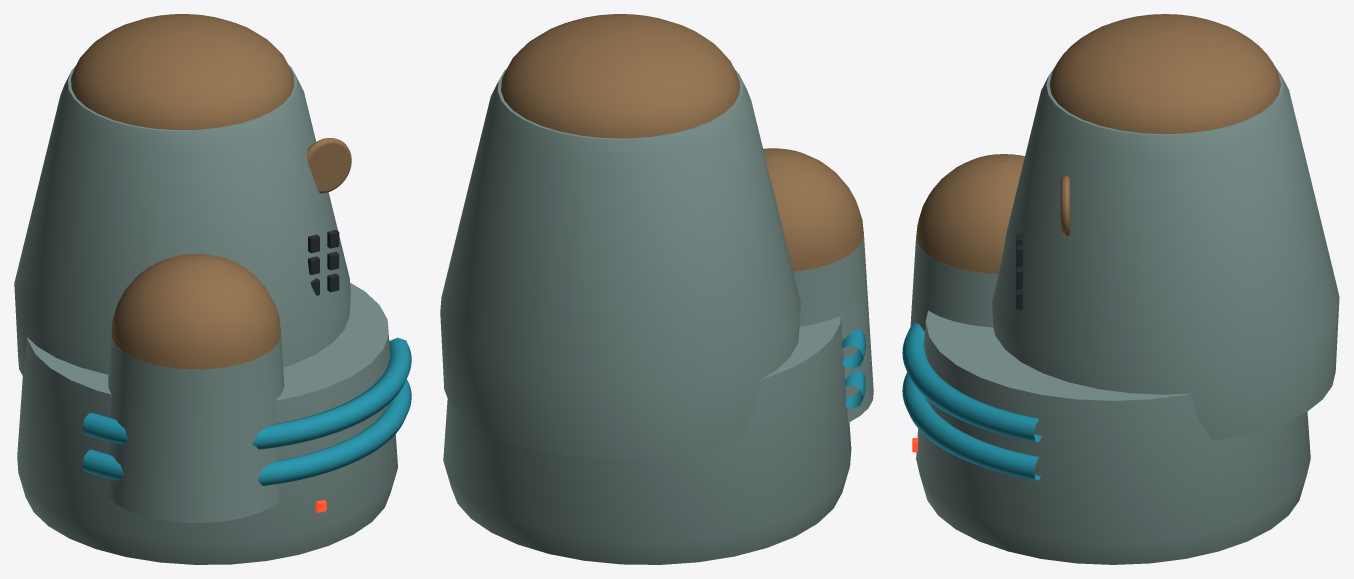
3 renders of one model, left to right at view 1: azimuth 30°, elevation 25°; view 2: azimuth 150°, elevation 25°; view 3: azimuth 270°, elevation 25°, orthographic. The views are drawn at different scales.
Parts seen in each view (by area): view 1: Air processor main tower, Air processor lower body, Air processor auxiliary tower, Air processor large bronze cap, Air processor small bronze cap, Air processor blue curved pipe.001, Air processor blue curved pipe, Air processor round service port; view 2: Air processor main tower, Air processor lower body, Air processor large bronze cap, Air processor small bronze cap, Air processor auxiliary tower, Air processor blue curved pipe.001, Air processor blue curved pipe; view 3: Air processor main tower, Air processor lower body, Air processor large bronze cap, Air processor small bronze cap, Air processor auxiliary tower, Air processor blue curved pipe.001, Air processor blue curved pipe, Air processor round service port.
Boxes of the visible parts, left/top/right/bottom form: Air processor main tower: left=14, top=65, right=350, bottom=376; Air processor lower body: left=17, top=282, right=397, bottom=564; Air processor auxiliary tower: left=106, top=330, right=284, bottom=522; Air processor large bronze cap: left=71, top=14, right=294, bottom=129; Air processor small bronze cap: left=111, top=254, right=280, bottom=369; Air processor blue curved pipe.001: left=82, top=337, right=411, bottom=449; Air processor blue curved pipe: left=82, top=379, right=411, bottom=485; Air processor round service port: left=307, top=138, right=351, bottom=193; Air processor main tower: left=440, top=68, right=800, bottom=459; Air processor lower body: left=443, top=316, right=851, bottom=564; Air processor large bronze cap: left=501, top=14, right=739, bottom=138; Air processor small bronze cap: left=763, top=148, right=863, bottom=271; Air processor auxiliary tower: left=793, top=232, right=873, bottom=422; Air processor blue curved pipe.001: left=841, top=328, right=865, bottom=369; Air processor blue curved pipe: left=844, top=369, right=865, bottom=408; Air processor main tower: left=992, top=67, right=1339, bottom=440; Air processor lower body: left=916, top=310, right=1310, bottom=564; Air processor large bronze cap: left=1049, top=14, right=1280, bottom=134; Air processor small bronze cap: left=916, top=154, right=1024, bottom=273; Air processor auxiliary tower: left=910, top=237, right=998, bottom=331; Air processor blue curved pipe.001: left=902, top=321, right=1041, bottom=441; Air processor blue curved pipe: left=902, top=372, right=1040, bottom=480; Air processor round service port: left=1060, top=175, right=1070, bottom=236.
Size of the model in its own units: 2.06 by 2.61 by 2.28.
